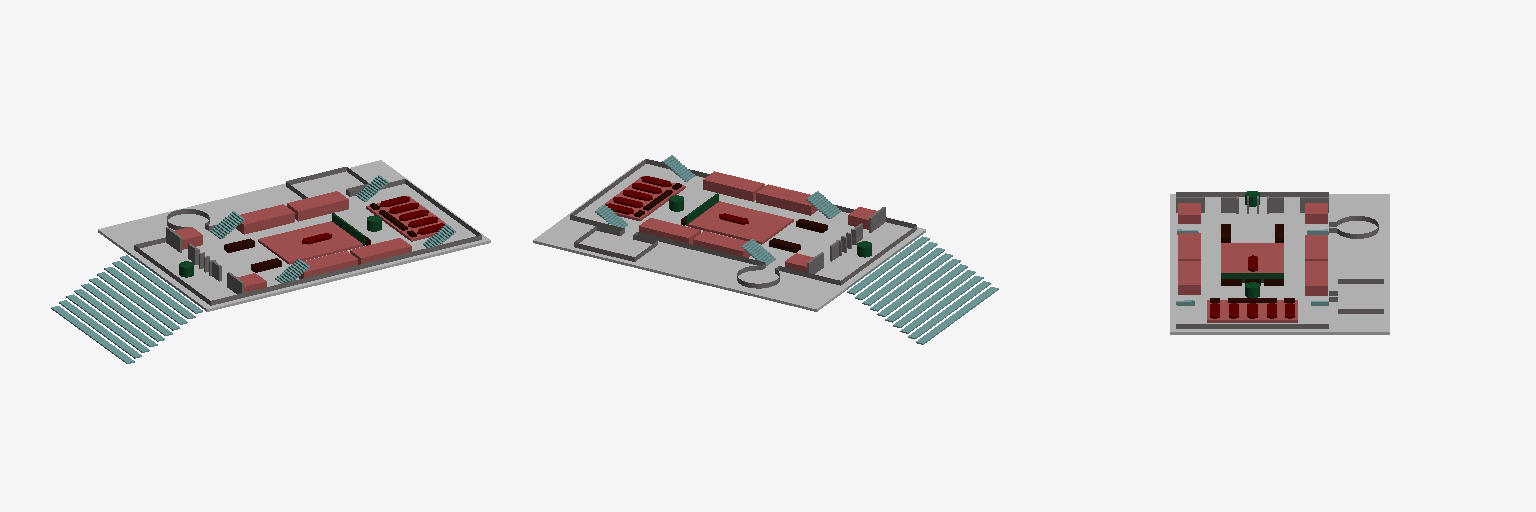
Rendered from map.obj.
3 renders of one model, left to right at view 1: azimuth 30°, elevation 25°; view 2: azimuth 150°, elevation 25°; view 3: azimuth 270°, elevation 25°, orthographic.
Visible parts, largest first — view 1: Rectangle001, StraightStair001, Shape3, Shape5, Shape29, Shape2, Shape30, Shape4, Shape7; view 2: Rectangle001, StraightStair001, Shape3, Shape5, Shape4, Shape30, Shape29, Shape2, Shape7; view 3: Rectangle001, Shape3, Shape5, Shape7, Shape29, Shape30, Shape4, Shape2.
Boxes of the visible parts, box(x1,y1,x2,y2) form: Rectangle001: box(98, 160, 490, 311); StraightStair001: box(51, 251, 202, 363); Shape3: box(134, 167, 481, 305); Shape5: box(258, 221, 362, 264); Shape29: box(287, 191, 348, 221); Shape2: box(236, 204, 294, 234); Shape30: box(350, 238, 411, 264); Shape4: box(299, 251, 357, 278); Shape7: box(366, 196, 450, 241); Rectangle001: box(533, 160, 925, 311); StraightStair001: box(847, 233, 998, 344); Shape3: box(570, 159, 916, 288); Shape5: box(688, 201, 793, 244); Shape4: box(756, 184, 817, 215); Shape30: box(703, 171, 764, 201); Shape29: box(639, 218, 700, 244); Shape2: box(693, 231, 749, 257); Shape7: box(598, 176, 685, 220); Rectangle001: box(1170, 194, 1389, 334); Shape3: box(1176, 192, 1383, 328); Shape5: box(1221, 243, 1283, 272); Shape7: box(1207, 300, 1297, 322); Shape29: box(1305, 261, 1327, 295); Shape30: box(1178, 261, 1200, 294); Shape4: box(1178, 233, 1200, 260); Shape2: box(1305, 235, 1327, 260).
Bounding box in the file's own units: 7.59 × 1.09 × 4.